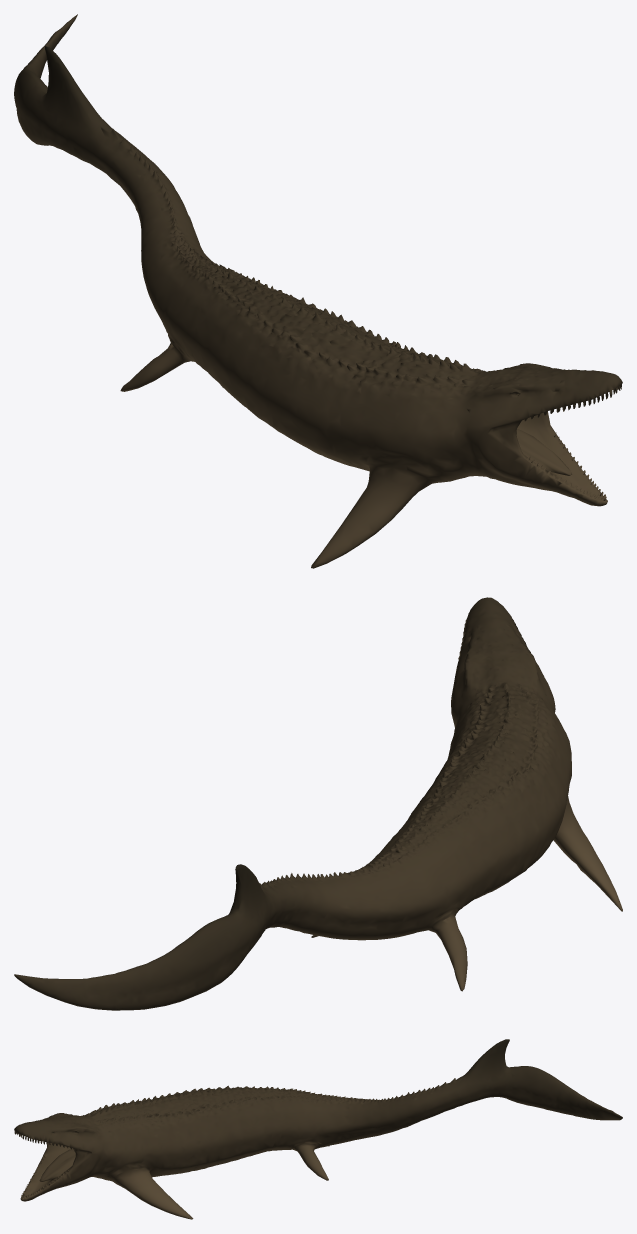
File: mosasaurus.glb
3 views of the same model, one above another, from view 1: azimuth 30°, elevation 25°; view 2: azimuth 150°, elevation 25°; view 3: azimuth 270°, elevation 25° (orthographic). The views are drawn at different scales.
Parts seen in each view (by area): view 1: mosasaurus; view 2: mosasaurus; view 3: mosasaurus.
Boxes of the visible parts, x1=… form: mosasaurus: x1=14, y1=14, x2=622, y2=568; mosasaurus: x1=14, y1=597, x2=622, y2=1010; mosasaurus: x1=14, y1=1039, x2=622, y2=1219.
Bounding box in the file's own units: 60.28 × 62.9 × 217.
